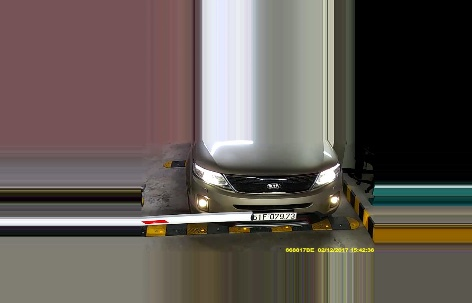plate: (247, 209, 298, 221)
